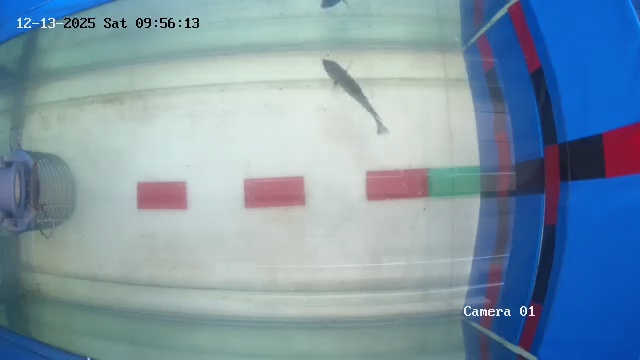fish: (303, 44, 387, 130)
